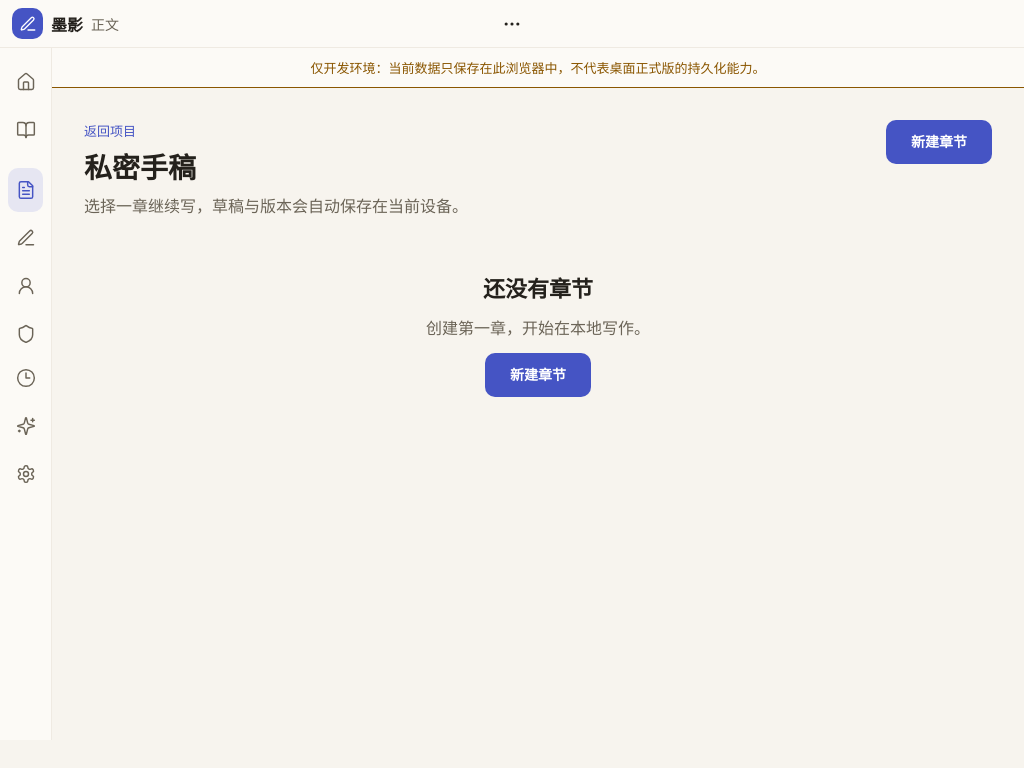
desktop vertical slice › creates a private chapter atomically from the new chapter dialog
Click the button "新建章节" below "创建第一章，开始在本地写作。" at (538, 375), box [485,353,591,397]
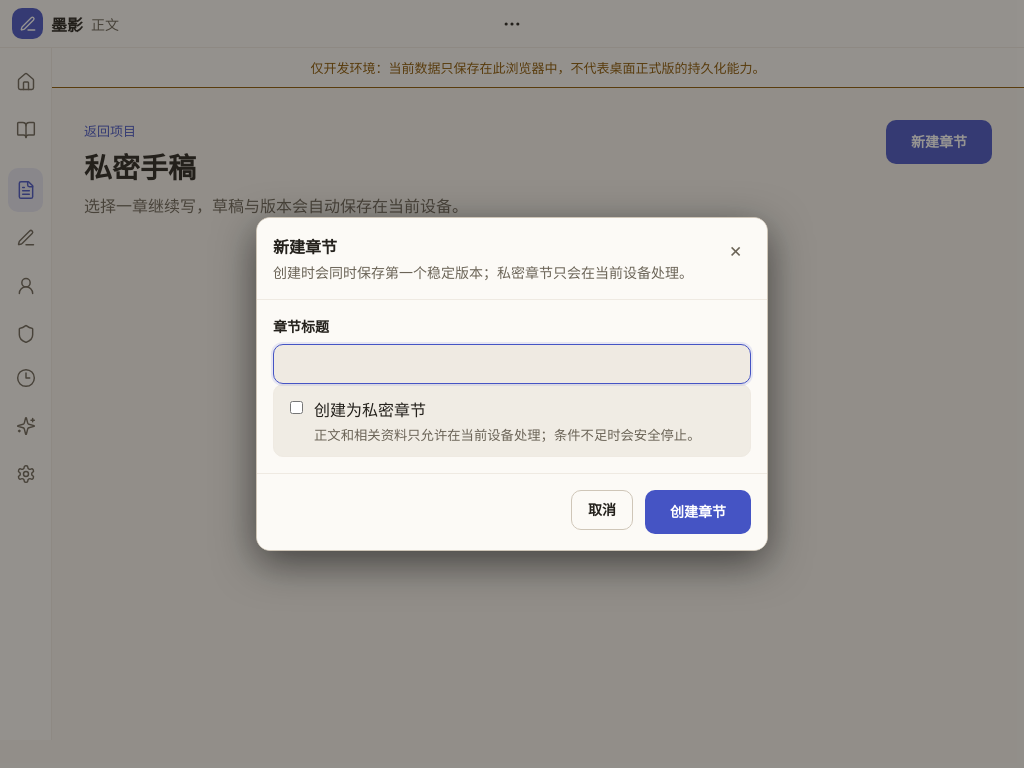
Type "未公开的尾声" into the field labelled "章节标题" at (512, 364), box [286,345,738,383]
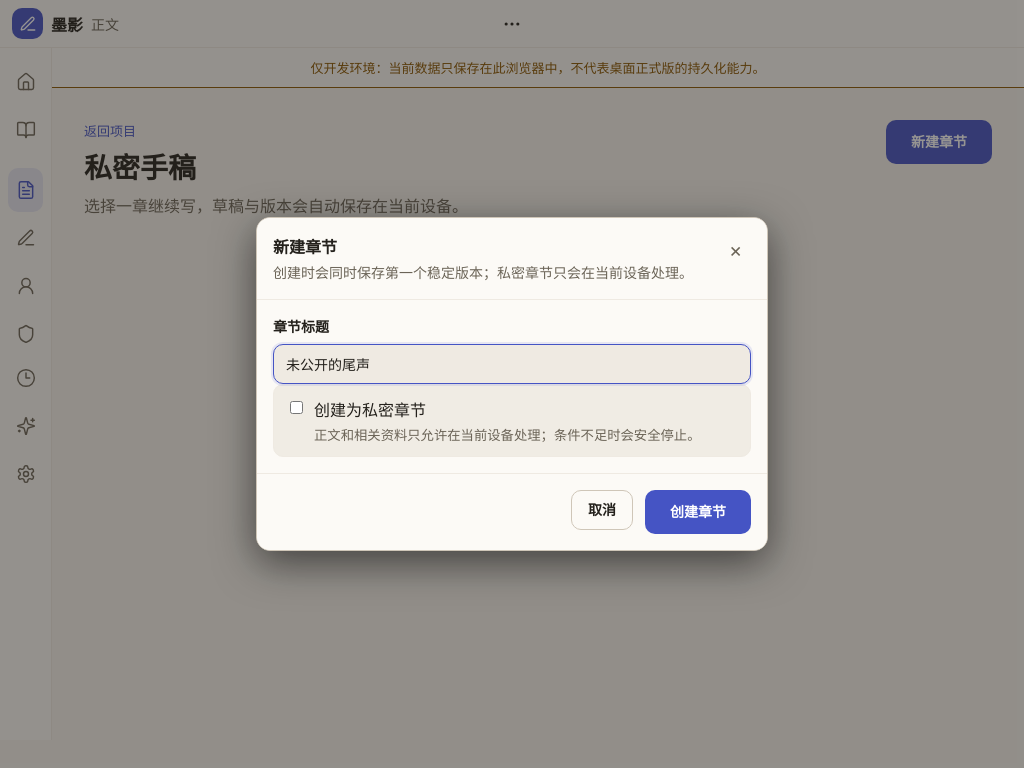
Click the checkbox labelled "创建为私密章节 正文和相关资料只允许在当前设备处理；条件不足时会安全停止。" at (296, 408), box [290,401,303,414]
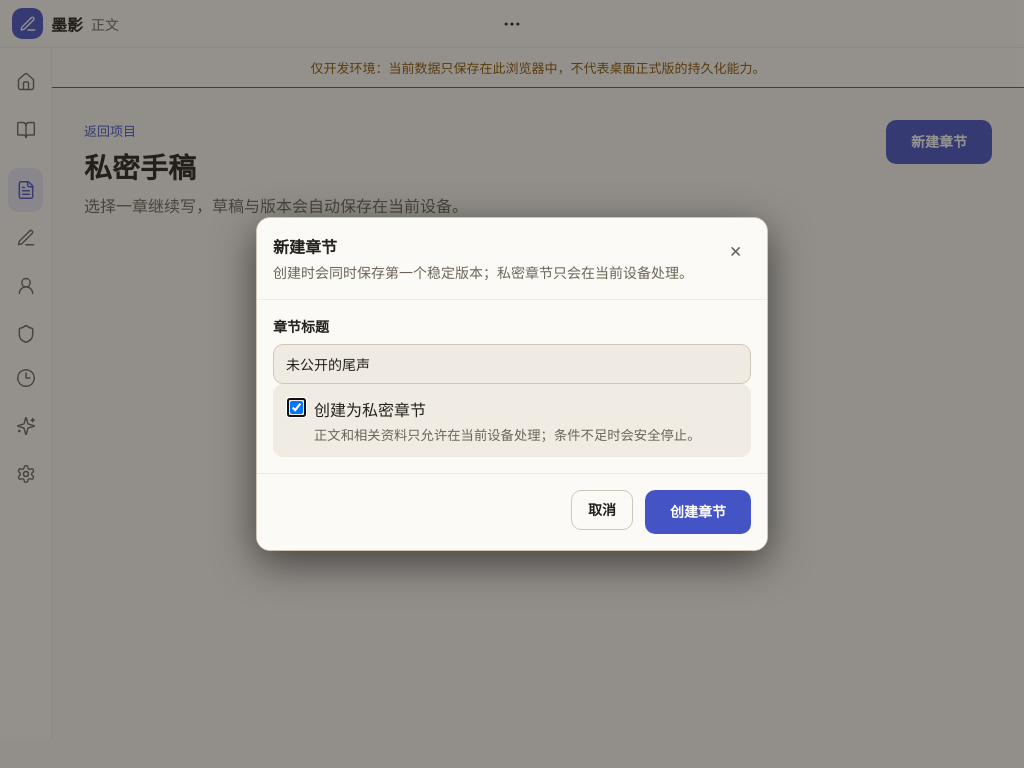
Click the button "创建章节" at (698, 512), box [645,490,751,534]
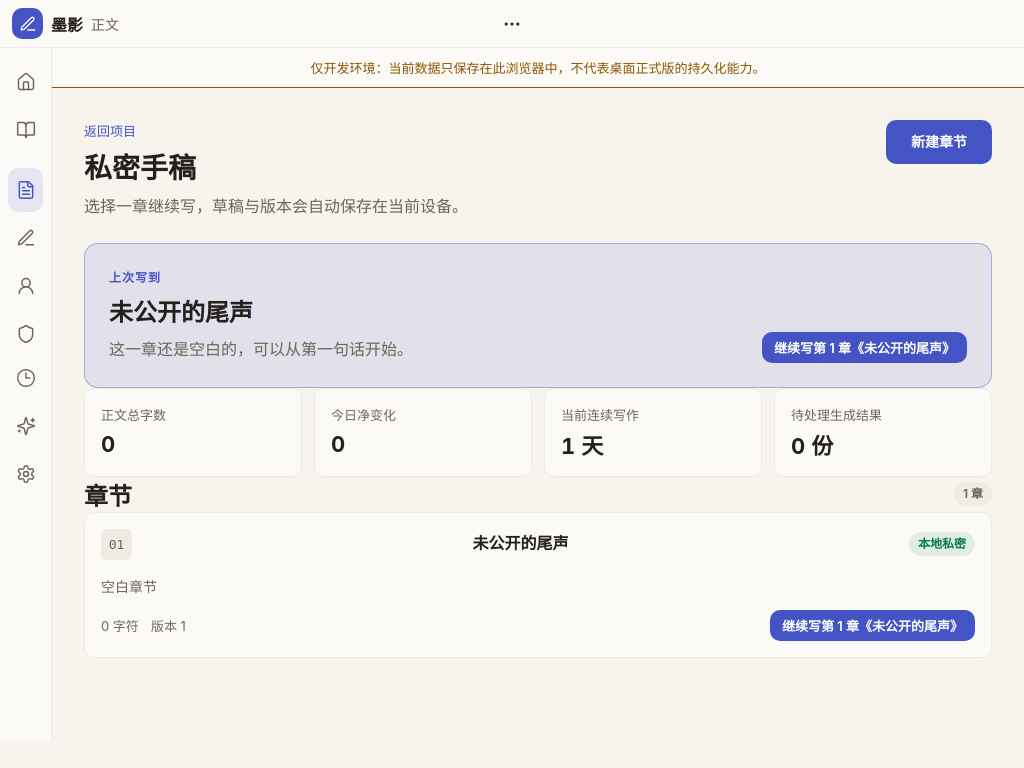
Expected: the text "本地私密" is shown, [909,532,975,556]
